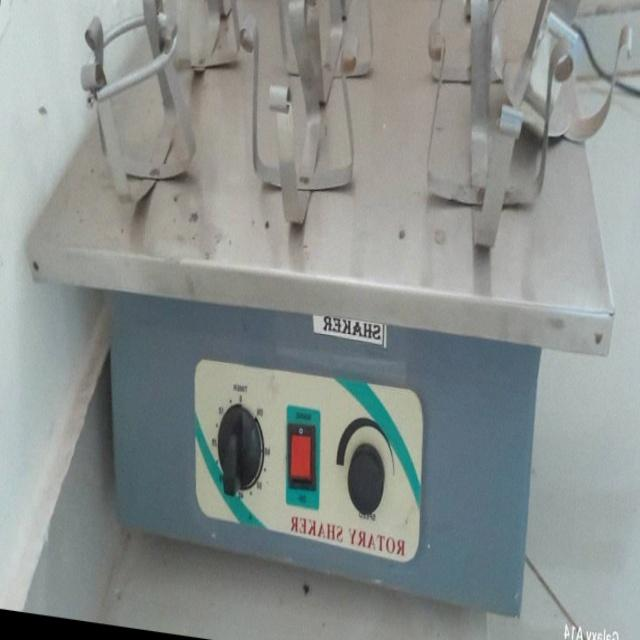Rotary Shaker: (7, 0, 633, 640)
